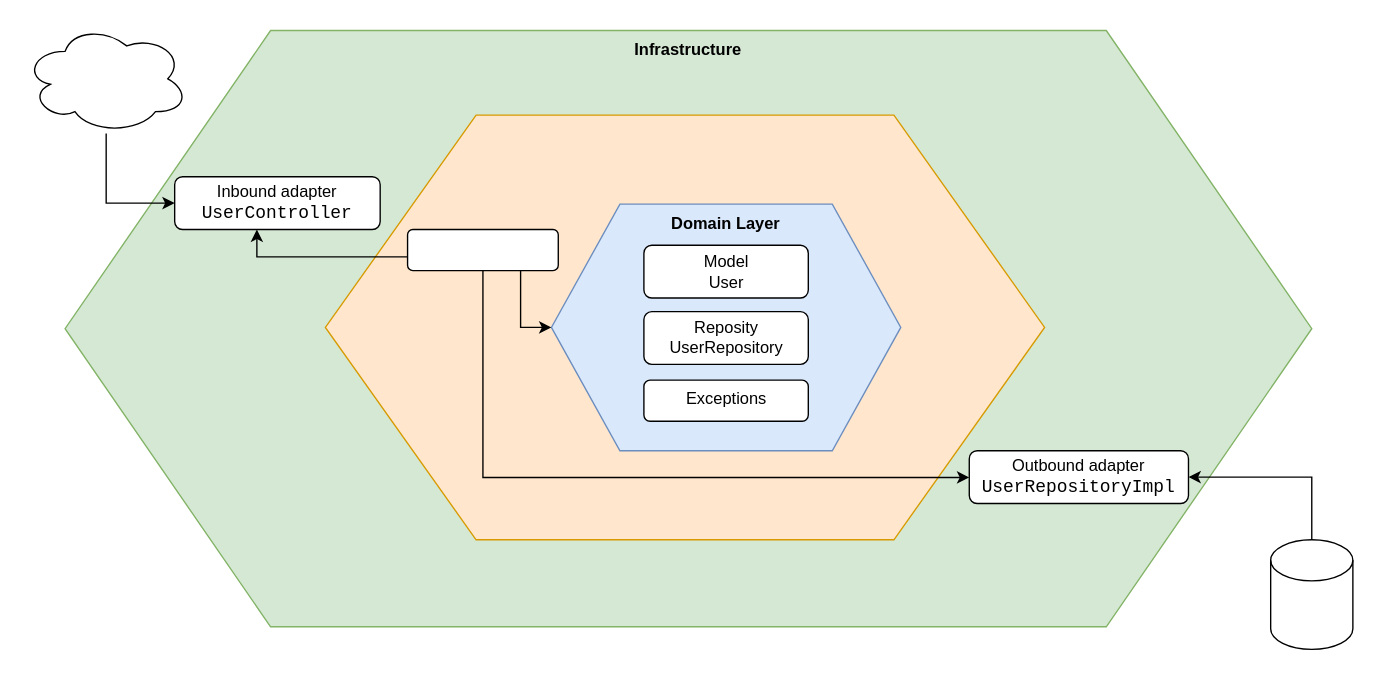
Some shapes in this 1377 by 674 pixel diagram are drawn without their labels. The shapes that lost their labels are listed below. From the top down, each one's box as (x1, y1, x2, y2) in pixels, then its label:
(23, 23, 188, 134): Rest client
(406, 228, 558, 271): UserCaseUse
(324, 114, 1045, 540): Use cases
(1269, 538, 1353, 649): H2
